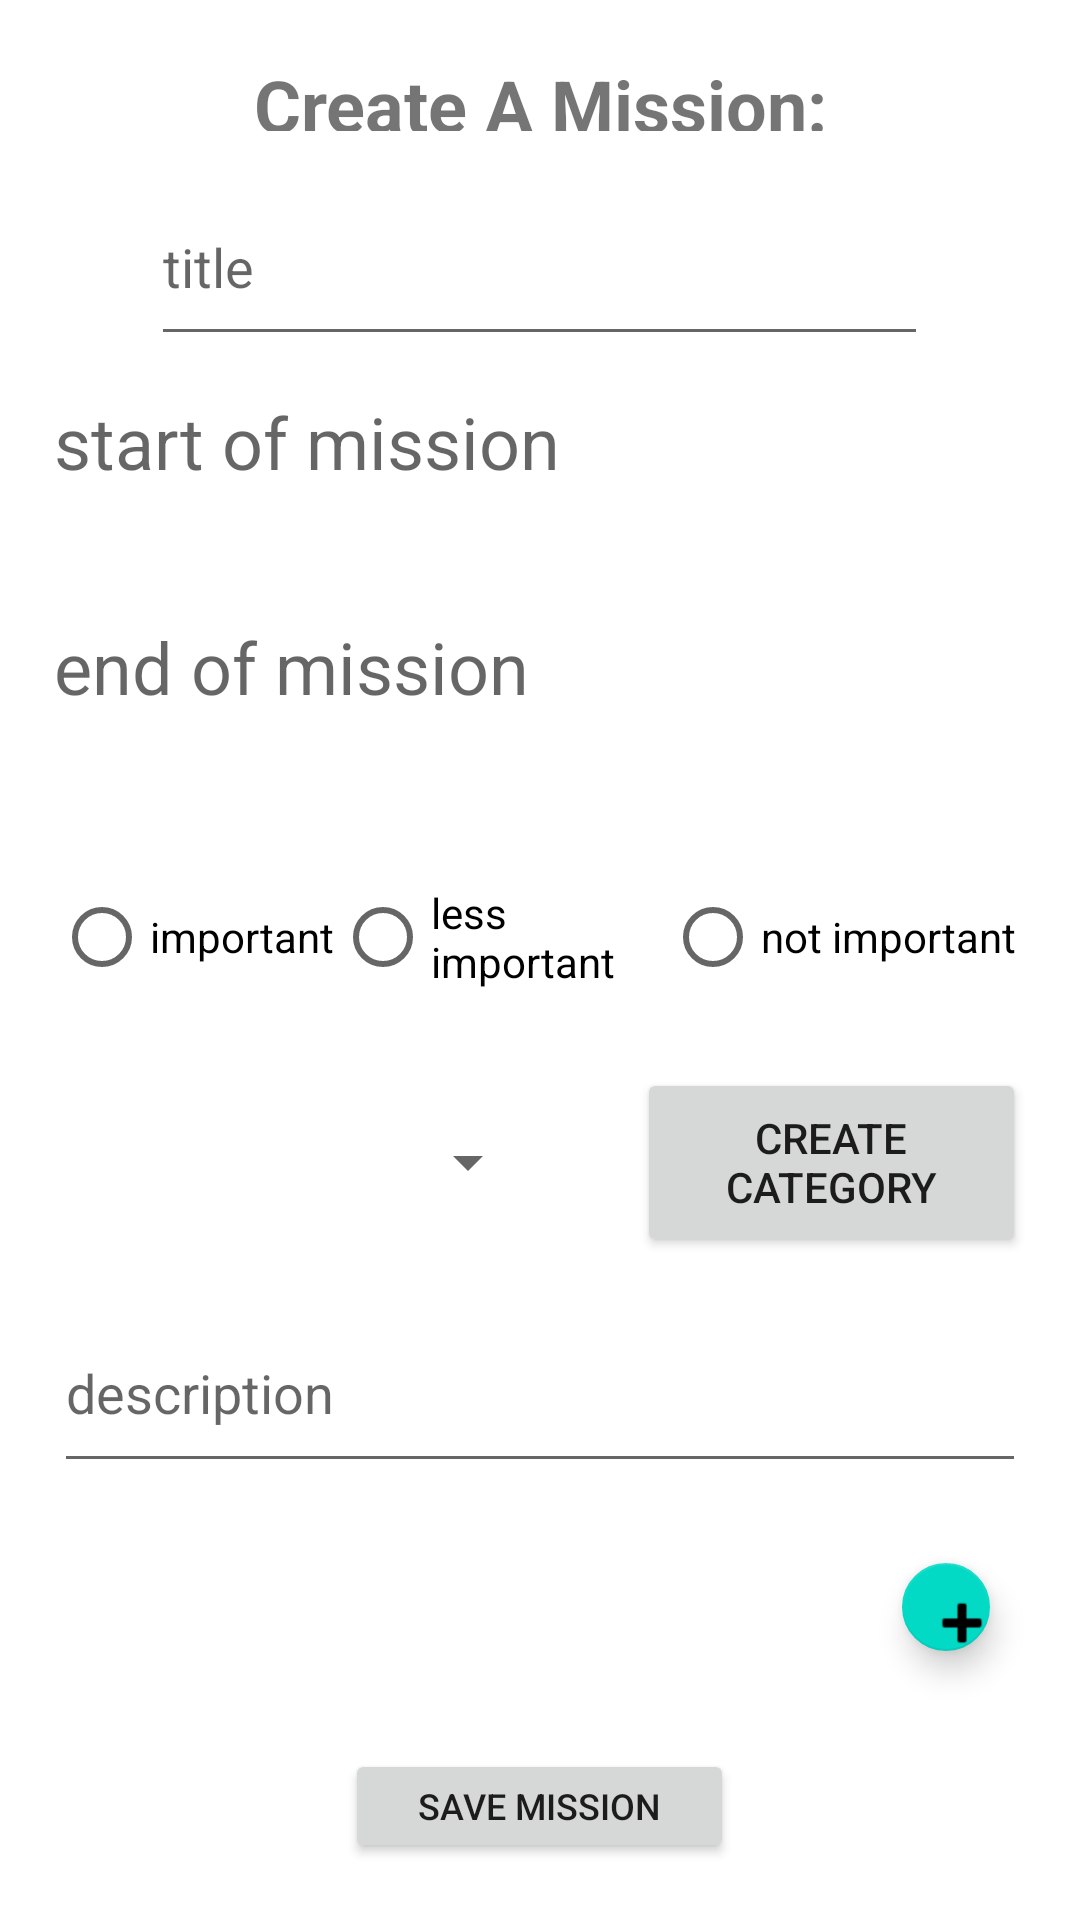

Screen size 1080x1920. Icon name, then its box in pixels as region(x1, y1, x2, y2):
add: region(902, 1563, 992, 1663)
